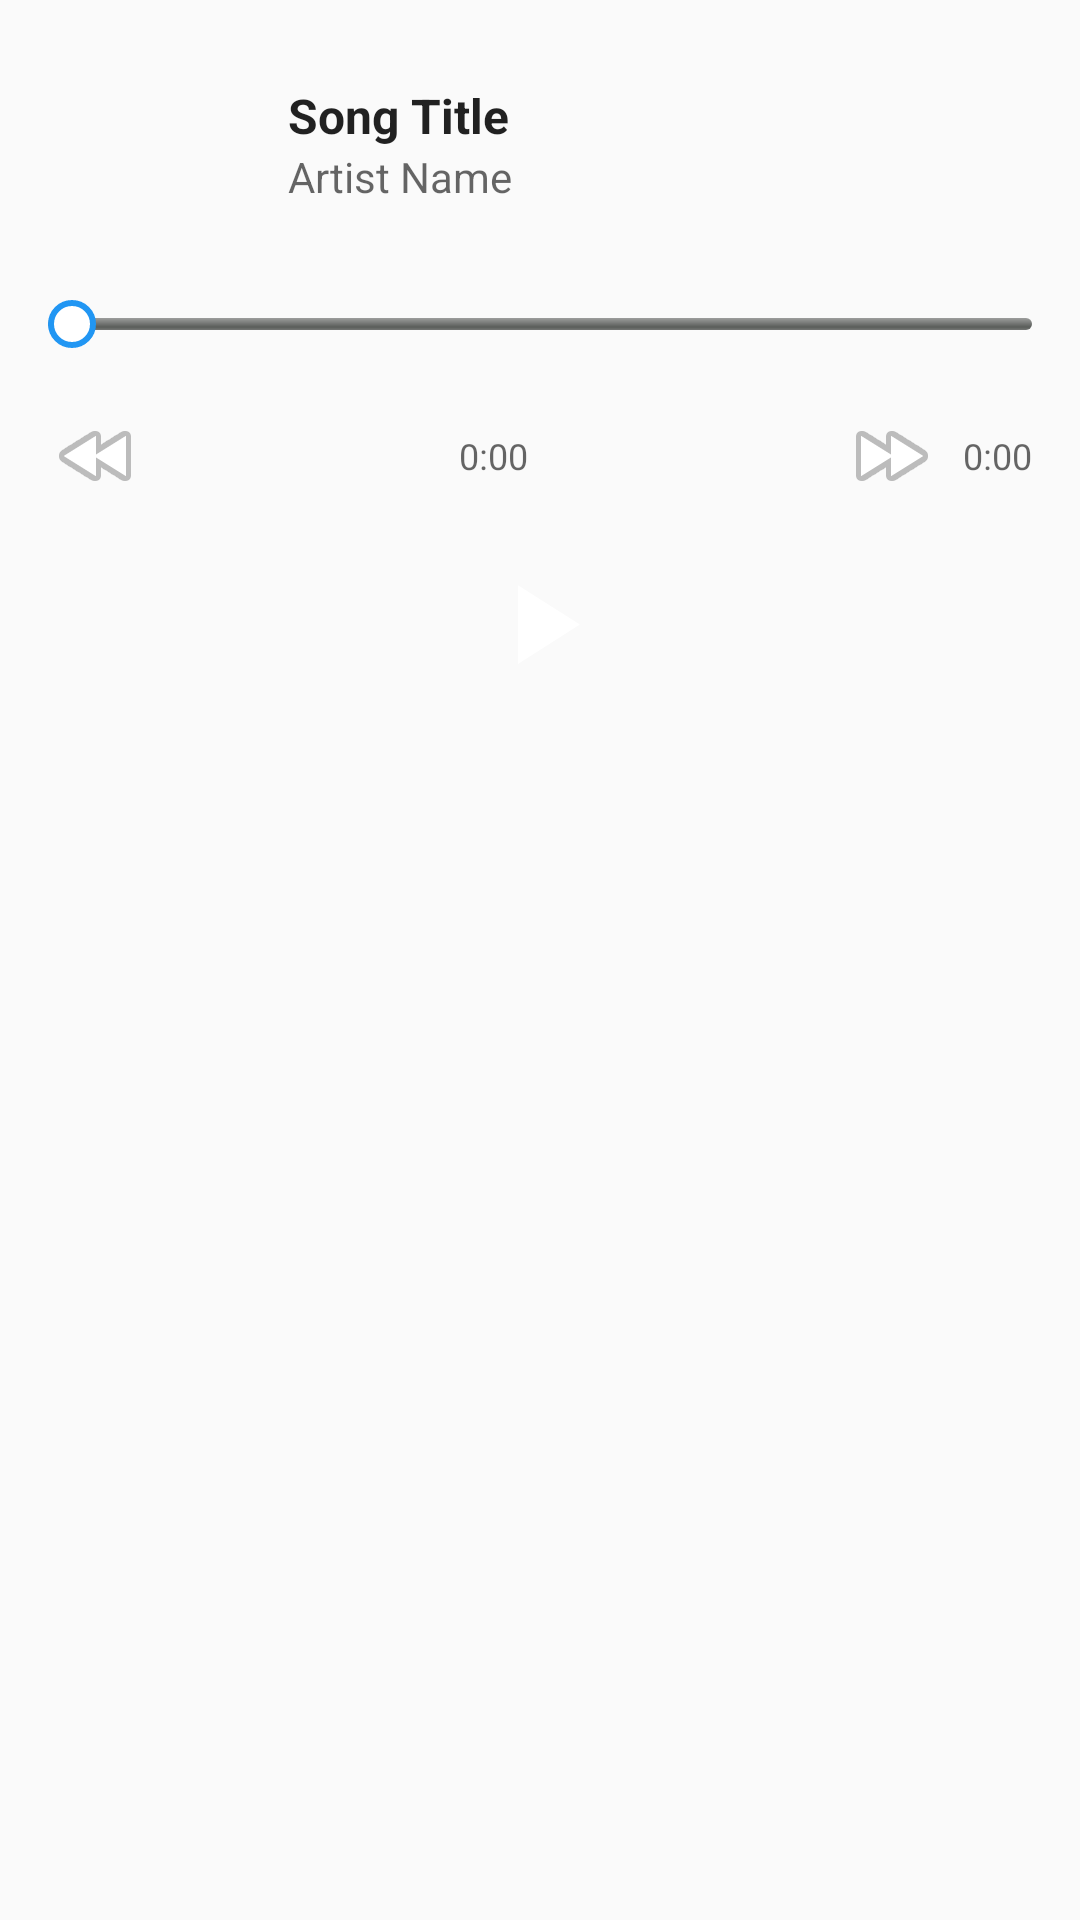

Named icons in this screenshot (1080 × 1920) and their centers, (x,y):
Seek Back 10s: (95,456)
Seek Forward 10s: (892,456)
Seek position: (72,324)
